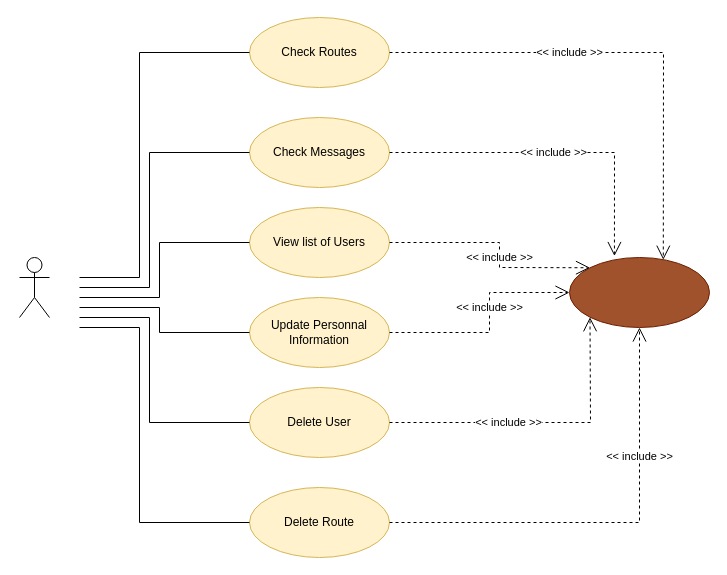
This 727x575 diagram has some shape labels left out. Here are the shapes that lost their labels. From the top down, the box of each, then its label:
(18, 256, 50, 318): Admin
(568, 256, 710, 328): Sign In
